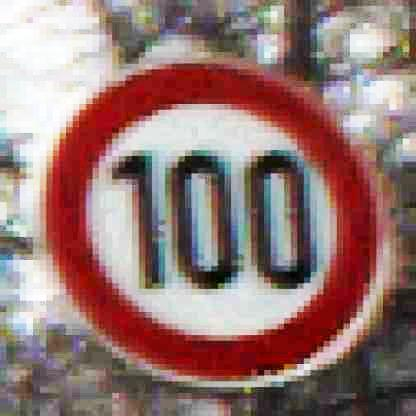Speed Limit -100-: (34, 58, 383, 387)
